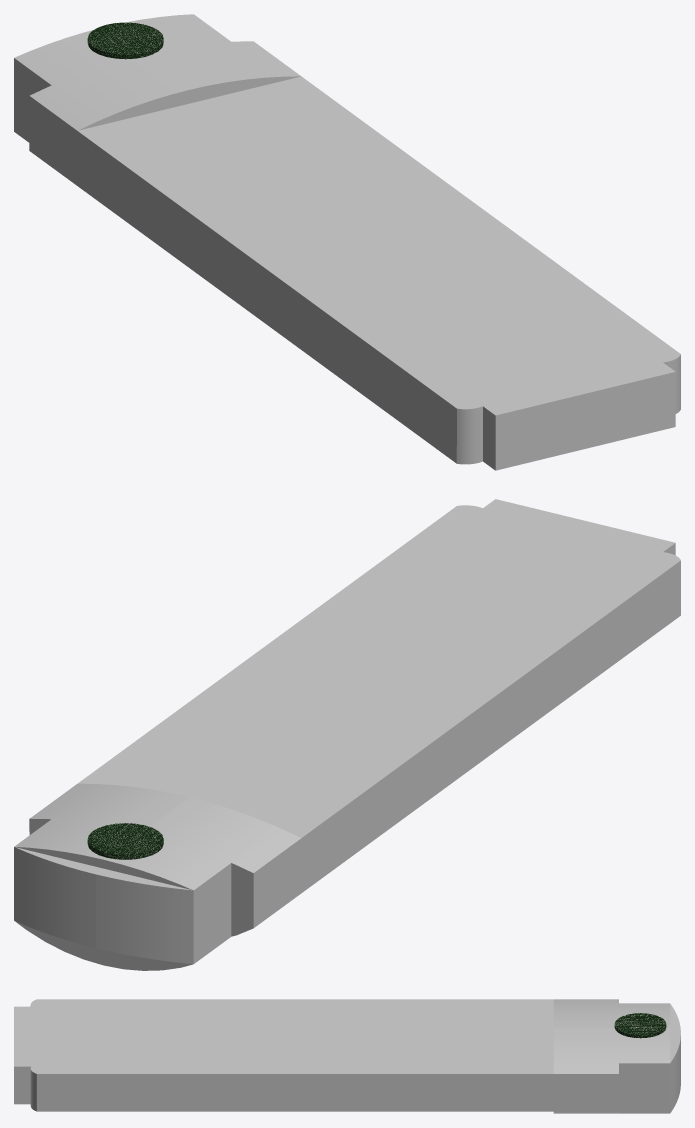
The model's file is original-9.obj.
3 renders of one model, top to bottom at view 1: azimuth 30°, elevation 25°; view 2: azimuth 150°, elevation 25°; view 3: azimuth 270°, elevation 25°, orthographic. The views are drawn at different scales.
Parts seen in each view (by area): view 1: mesh11/mesh11-geometry#mesh11-geometry; view 2: mesh11/mesh11-geometry#mesh11-geometry; view 3: mesh11/mesh11-geometry#mesh11-geometry.
Boxes of the visible parts, bbox=[...] form: mesh11/mesh11-geometry#mesh11-geometry: bbox=[14, 14, 680, 470]; mesh11/mesh11-geometry#mesh11-geometry: bbox=[14, 499, 680, 970]; mesh11/mesh11-geometry#mesh11-geometry: bbox=[14, 999, 680, 1113].
Size of the model in its own units: 0.1542 by 0.0726 by 0.5833.
